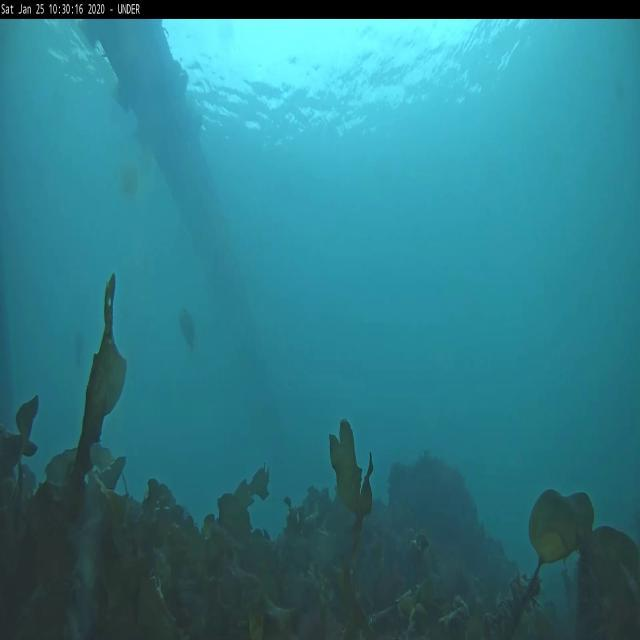fish: (174, 306, 200, 348), (71, 328, 90, 374)
